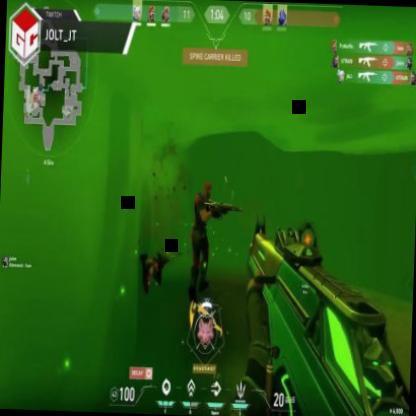enemy: (188, 180, 230, 300)
enemy_head: (203, 182, 212, 199)
